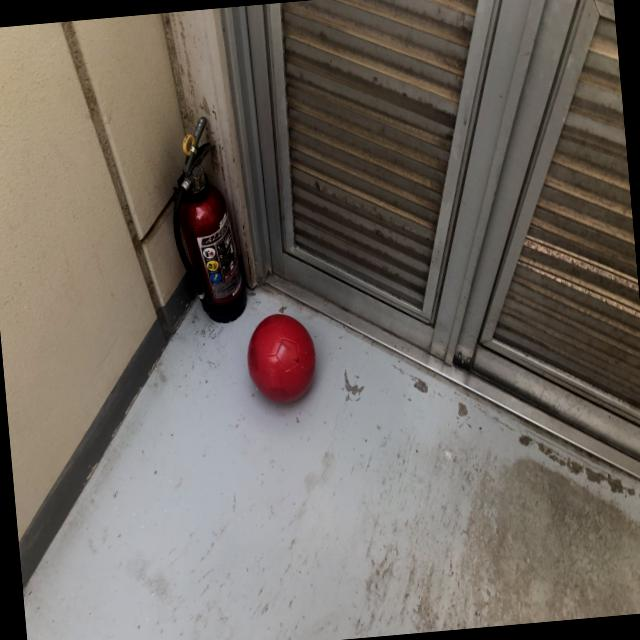red_ball: (243, 310, 320, 408)
